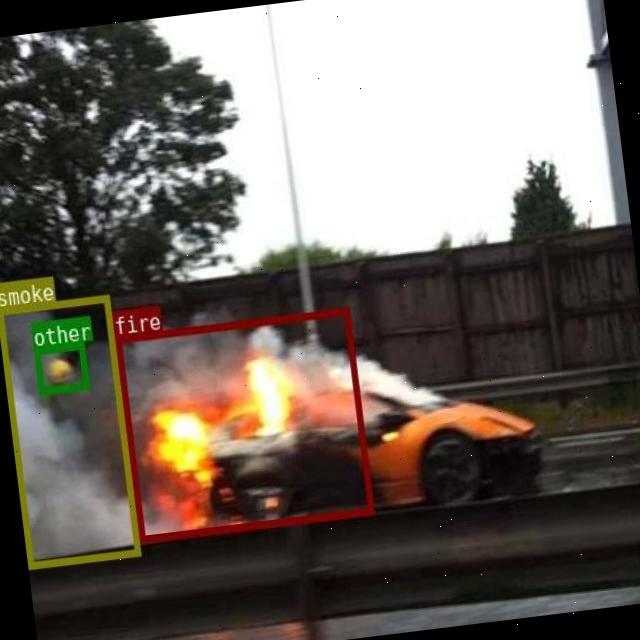fire: (114, 306, 372, 540)
smoke: (0, 292, 138, 568)
